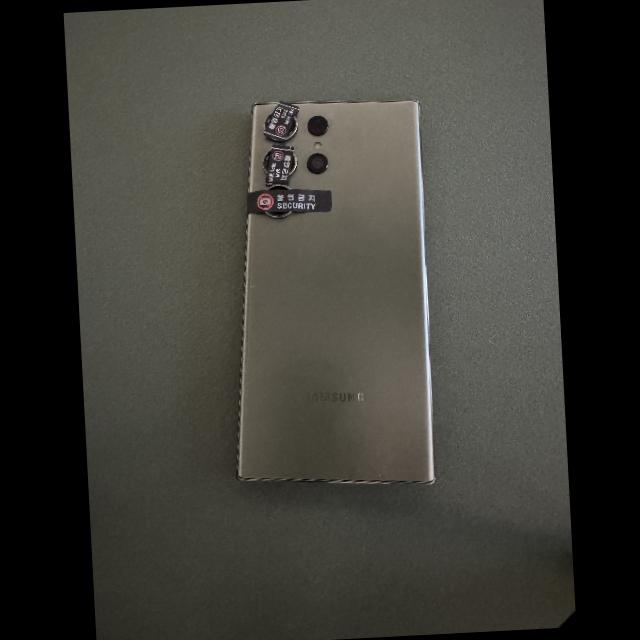lens: (308, 117, 328, 134), (287, 121, 297, 137), (266, 210, 291, 216), (289, 153, 296, 174)
phone: (237, 100, 434, 483)
sticker: (247, 190, 332, 215), (263, 102, 300, 142), (265, 144, 294, 189)
